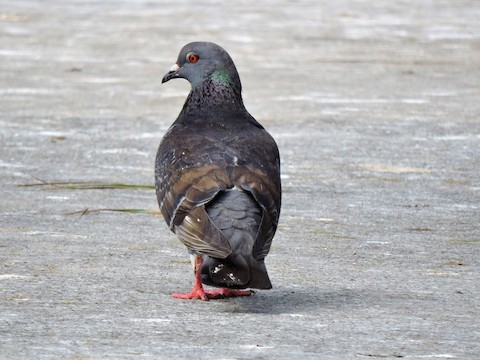pigeon: (151, 38, 286, 302)
